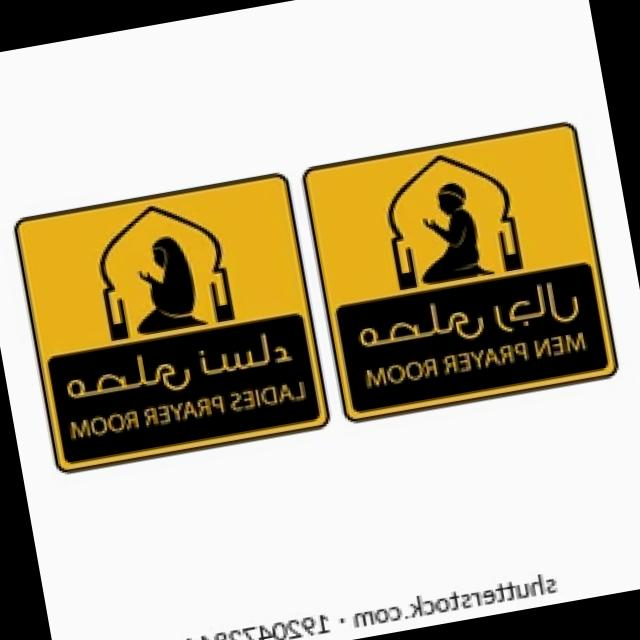surau_icon: (69, 132, 542, 348)
